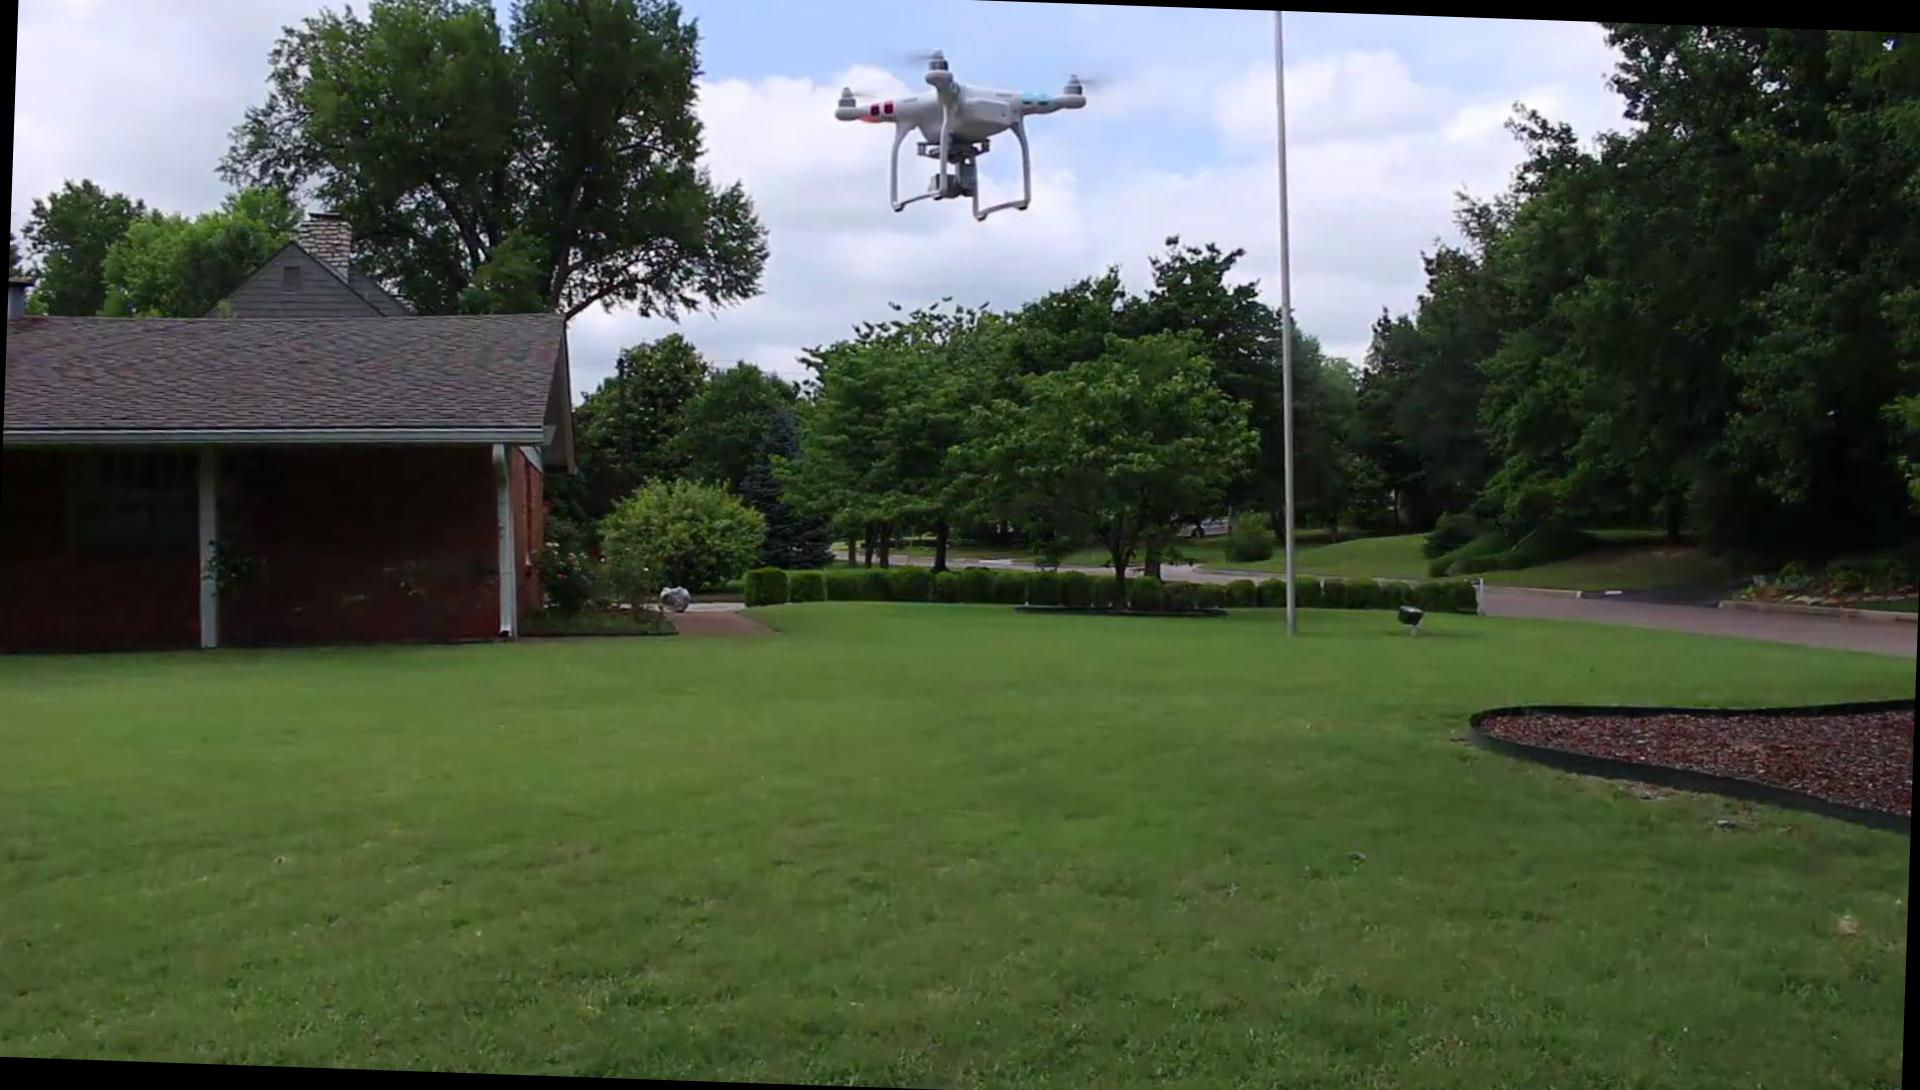drone: (823, 40, 1095, 229)
